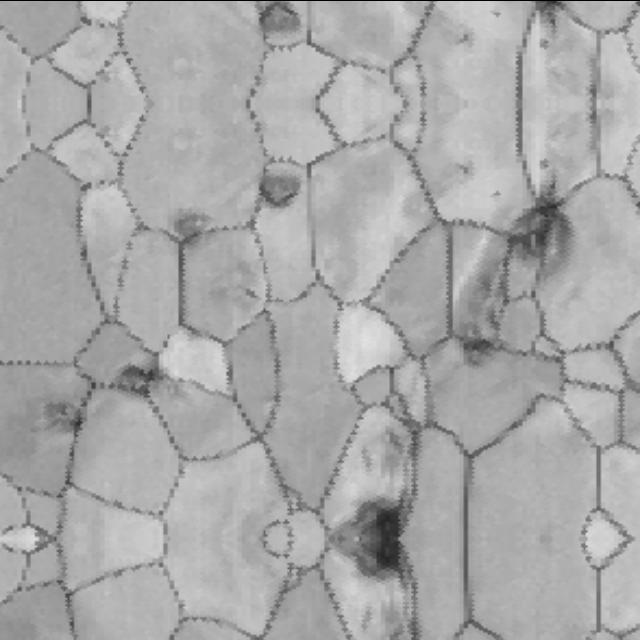good_void: (507, 173, 576, 277), (355, 421, 412, 486), (468, 240, 506, 328), (355, 589, 412, 640), (340, 498, 407, 537), (340, 538, 407, 577), (33, 395, 88, 438), (511, 0, 566, 31), (108, 355, 158, 388), (226, 264, 264, 307), (255, 175, 299, 210), (256, 0, 299, 29), (173, 204, 204, 229), (463, 333, 494, 352), (484, 181, 507, 203), (484, 1, 507, 23), (453, 159, 474, 182), (453, 22, 474, 45), (538, 155, 551, 172), (538, 32, 551, 49)
